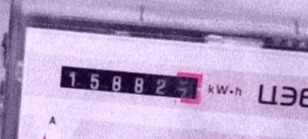1: (66, 68, 78, 87)
2: (154, 76, 167, 94)
5: (87, 71, 101, 89)
7: (176, 84, 188, 99)
8: (110, 73, 123, 91), (133, 75, 145, 92)
screen: (52, 53, 210, 109)
